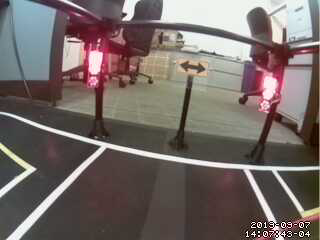Left_Right_sign: (175, 56, 214, 77)
Traffic_light_red: (256, 70, 283, 114), (85, 48, 104, 89)
